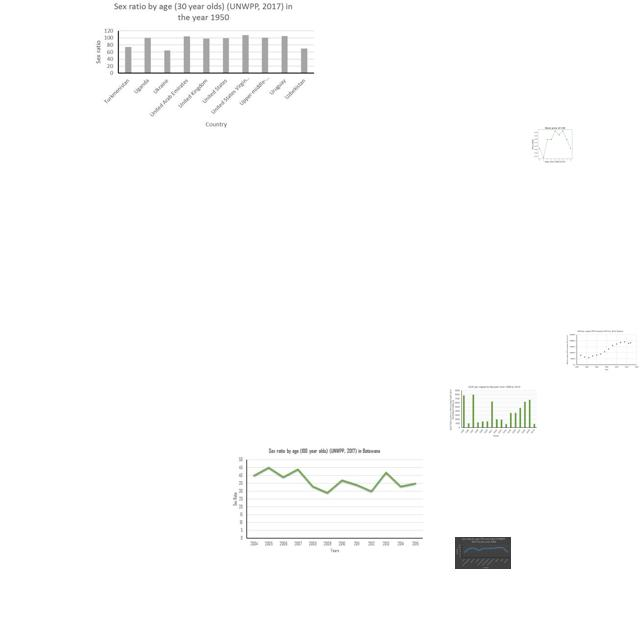Graph: (90, 0, 318, 131), (231, 446, 425, 555), (448, 384, 538, 438), (565, 329, 640, 373), (529, 125, 580, 163), (455, 537, 511, 569)
